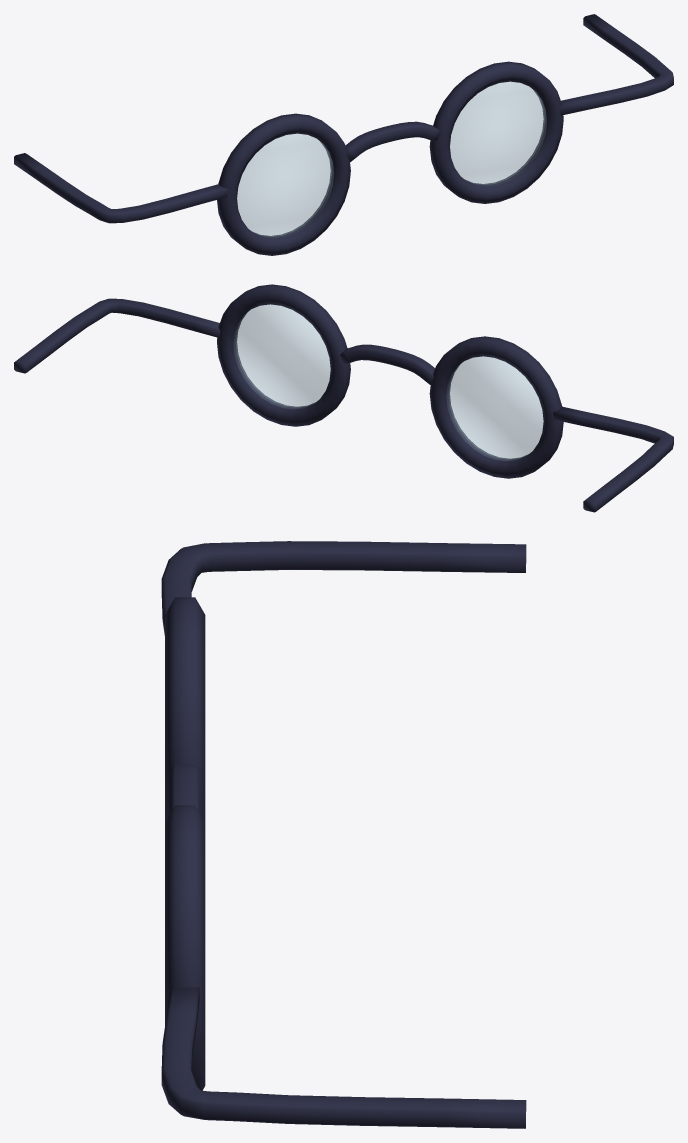
File: round_glasses-lion.glb
3 renders of one model, top to bottom at view 1: azimuth 30°, elevation 25°; view 2: azimuth 150°, elevation 25°; view 3: azimuth 270°, elevation 25°, orthographic. The views are drawn at different scales.
Parts seen in each view (by area): view 1: lens, lens.001, rim.001, rim, temple.001, temple, bridge; view 2: lens.001, lens, rim.001, rim, temple, temple.001, bridge; view 3: temple, temple.001, rim, rim.001, bridge.
Boxes of the visible parts, x1=… form: lens: x1=450, y1=81, x2=546, y2=186; lens.001: x1=237, y1=133, x2=333, y2=238; rim.001: x1=217, y1=113, x2=350, y2=255; rim: x1=429, y1=61, x2=563, y2=203; temple.001: x1=14, y1=153, x2=228, y2=223; temple: x1=560, y1=14, x2=673, y2=115; bridge: x1=345, y1=121, x2=440, y2=162; lens.001: x1=446, y1=356, x2=543, y2=460; lens: x1=234, y1=304, x2=330, y2=408; rim.001: x1=429, y1=336, x2=563, y2=478; rim: x1=217, y1=284, x2=350, y2=426; temple: x1=14, y1=298, x2=220, y2=373; temple.001: x1=553, y1=406, x2=673, y2=512; bridge: x1=340, y1=344, x2=434, y2=384; temple: x1=161, y1=986, x2=526, y2=1128; temple.001: x1=161, y1=541, x2=526, y2=635; rim: x1=165, y1=805, x2=205, y2=1090; rim.001: x1=165, y1=597, x2=205, y2=821; bridge: x1=171, y1=764, x2=198, y2=810.
Size of the model in its own units: 1.33 by 0.2946 by 0.3605.
